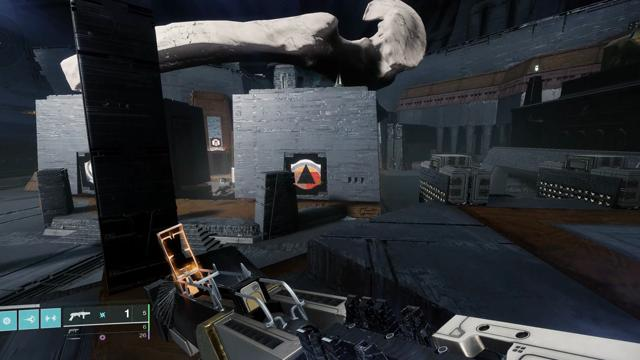pyramid: (291, 160, 321, 189)
traveler: (84, 160, 94, 185)
worship: (212, 139, 220, 146)
